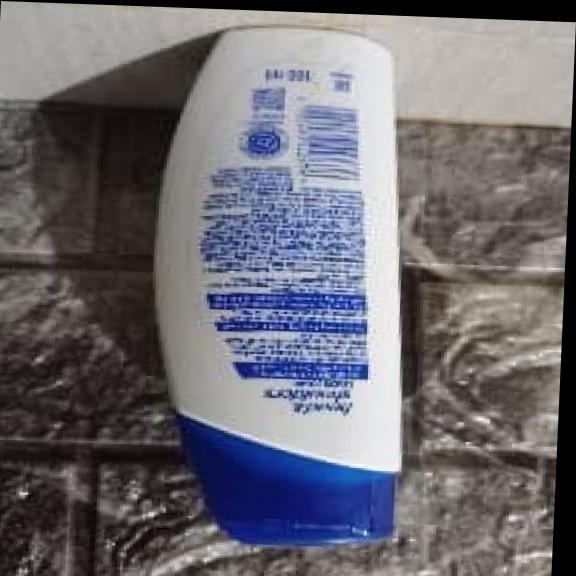Plastik: (142, 14, 426, 548)
